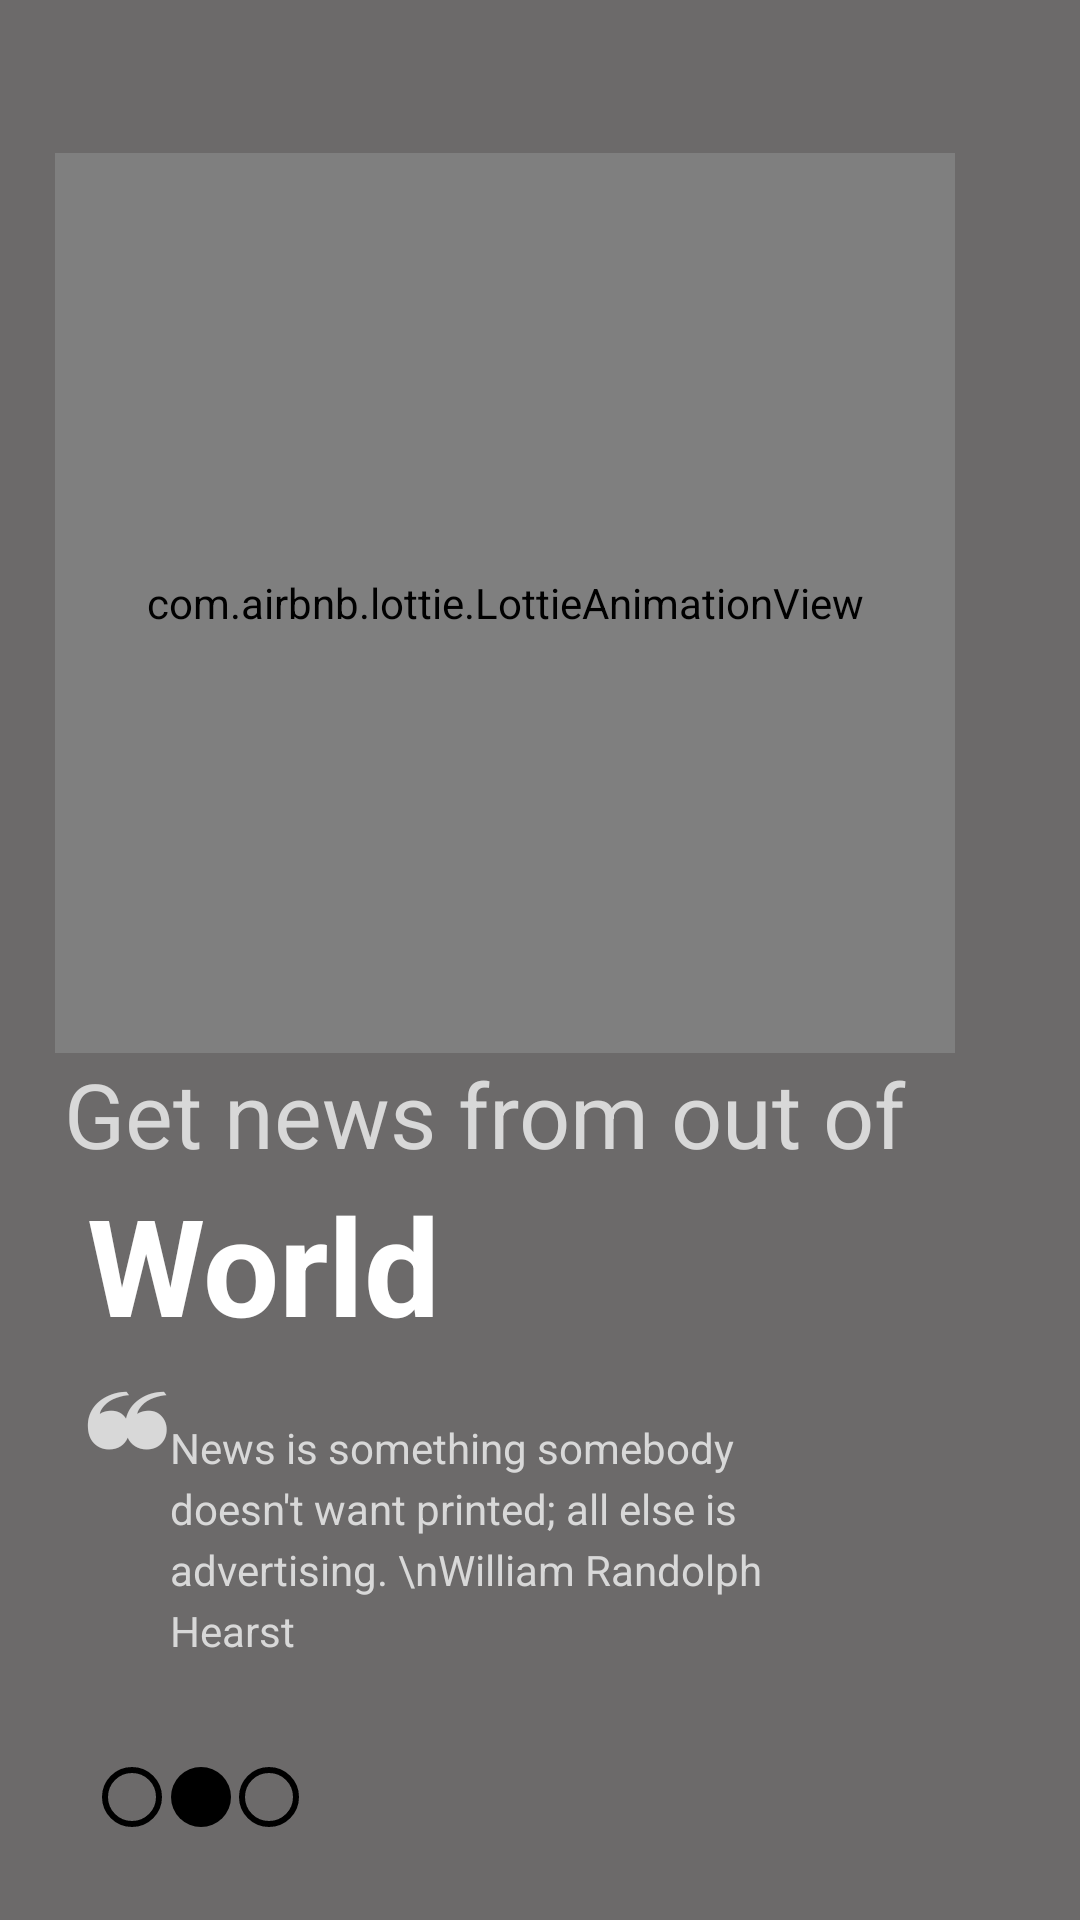

Point at icon controls on the screen. Image size 1080×1920, points as (x,y).
circle: (201,1797)
unfilled circle: (132,1797), (269,1797)
